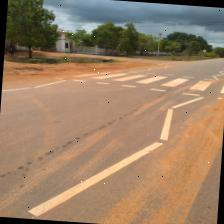crossing: (68, 65, 222, 101)
